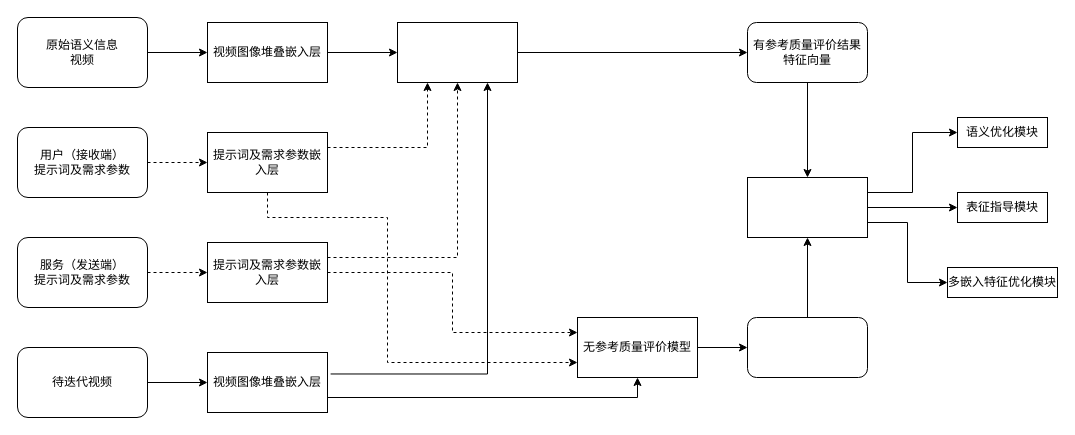
Some shapes in this 1075 by 435 pixel diagram are drawn without their labels. The shapes that lost their labels are listed below. From the top down, each one's centre as x and y in pixels, then its label:
the point at 457,52: 有参考质量评价模型
the point at 807,207: 综合评价大语言模型
the point at 807,347: 无参考质量评价结果特征向量
